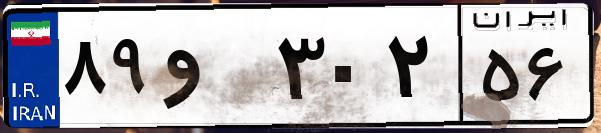0: (330, 28, 385, 110)
2: (385, 28, 445, 110)
3: (270, 28, 330, 110)
5: (475, 38, 525, 113)
6: (525, 38, 570, 115)
8: (57, 26, 110, 100)
9: (110, 28, 158, 98)
و: (158, 20, 270, 120)
